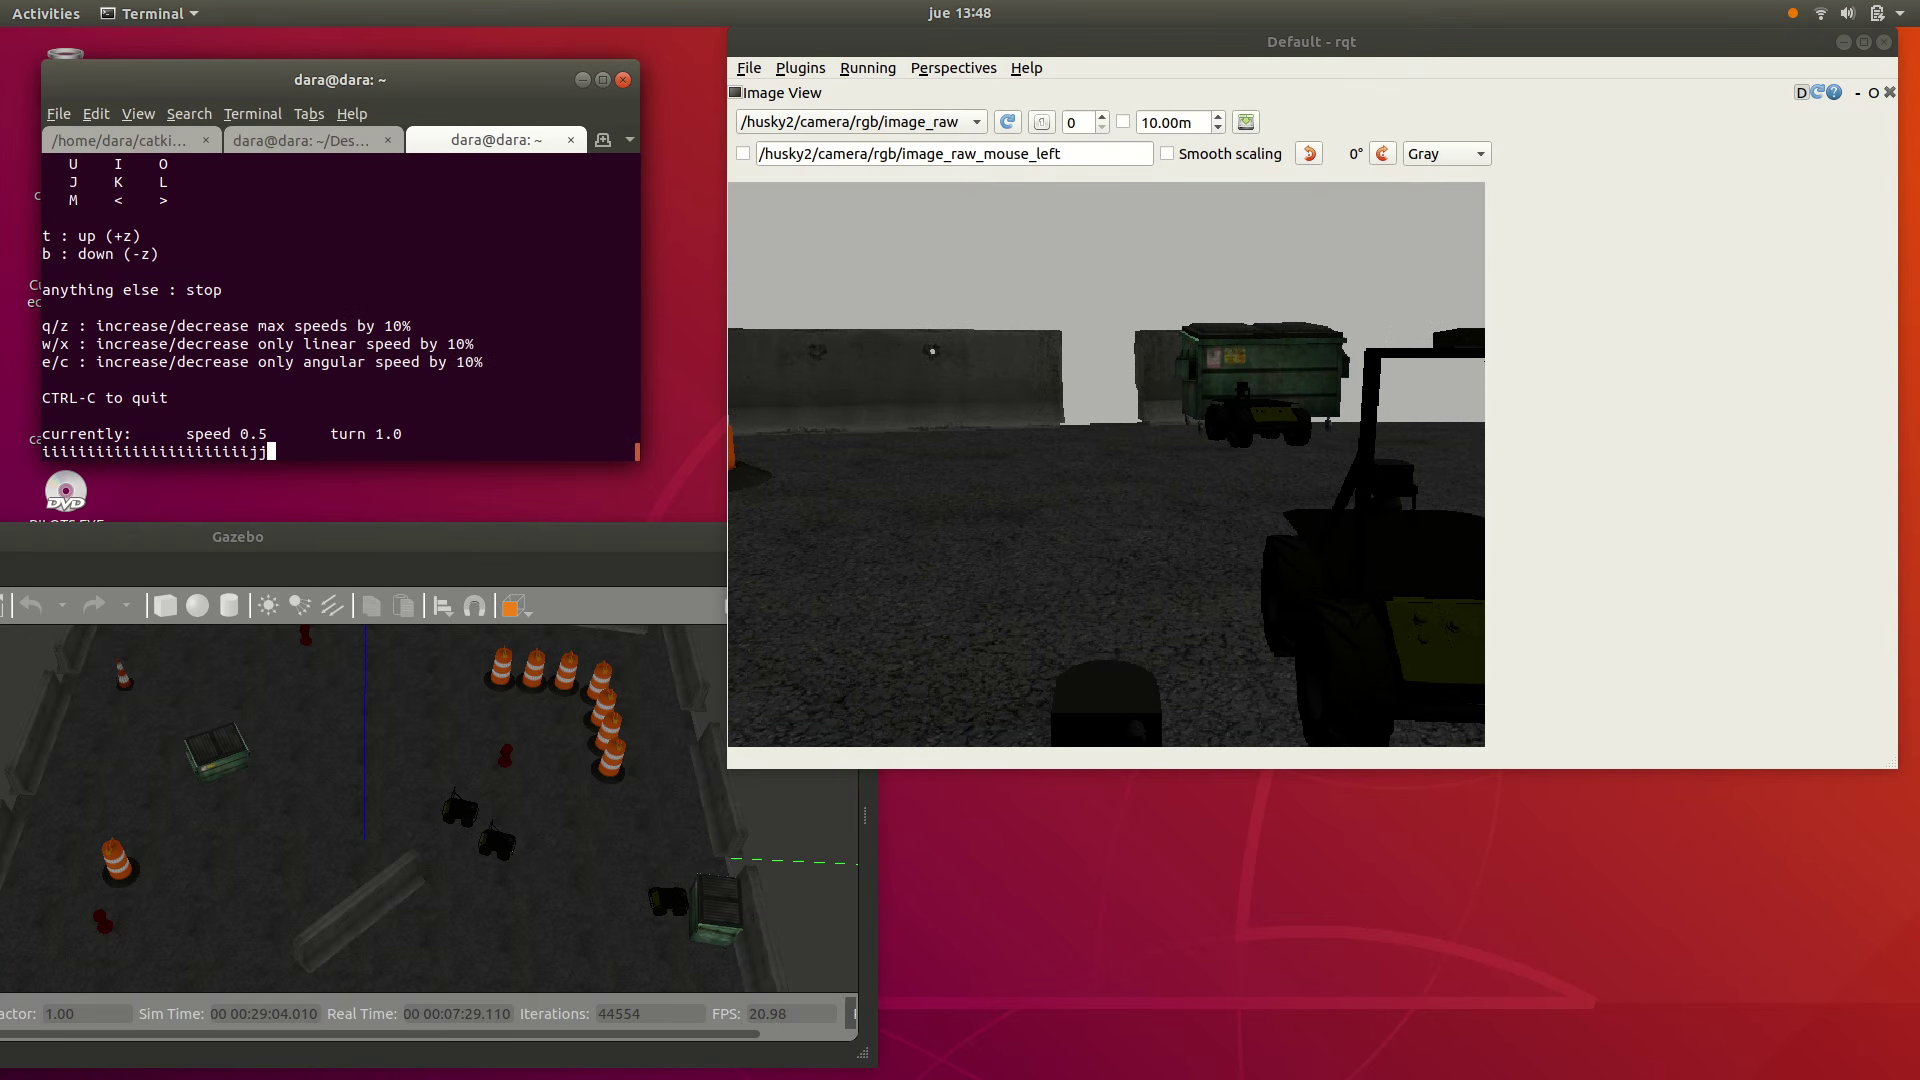husky: (1262, 508, 1483, 747), (478, 830, 517, 862), (441, 797, 480, 828), (649, 887, 690, 917)
